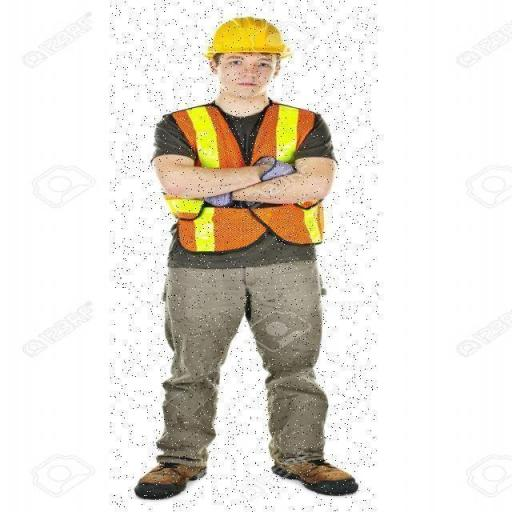Boots: (270, 458, 360, 497), (133, 461, 208, 500)
Helmet: (202, 18, 292, 60)
Person: (110, 0, 378, 512)
